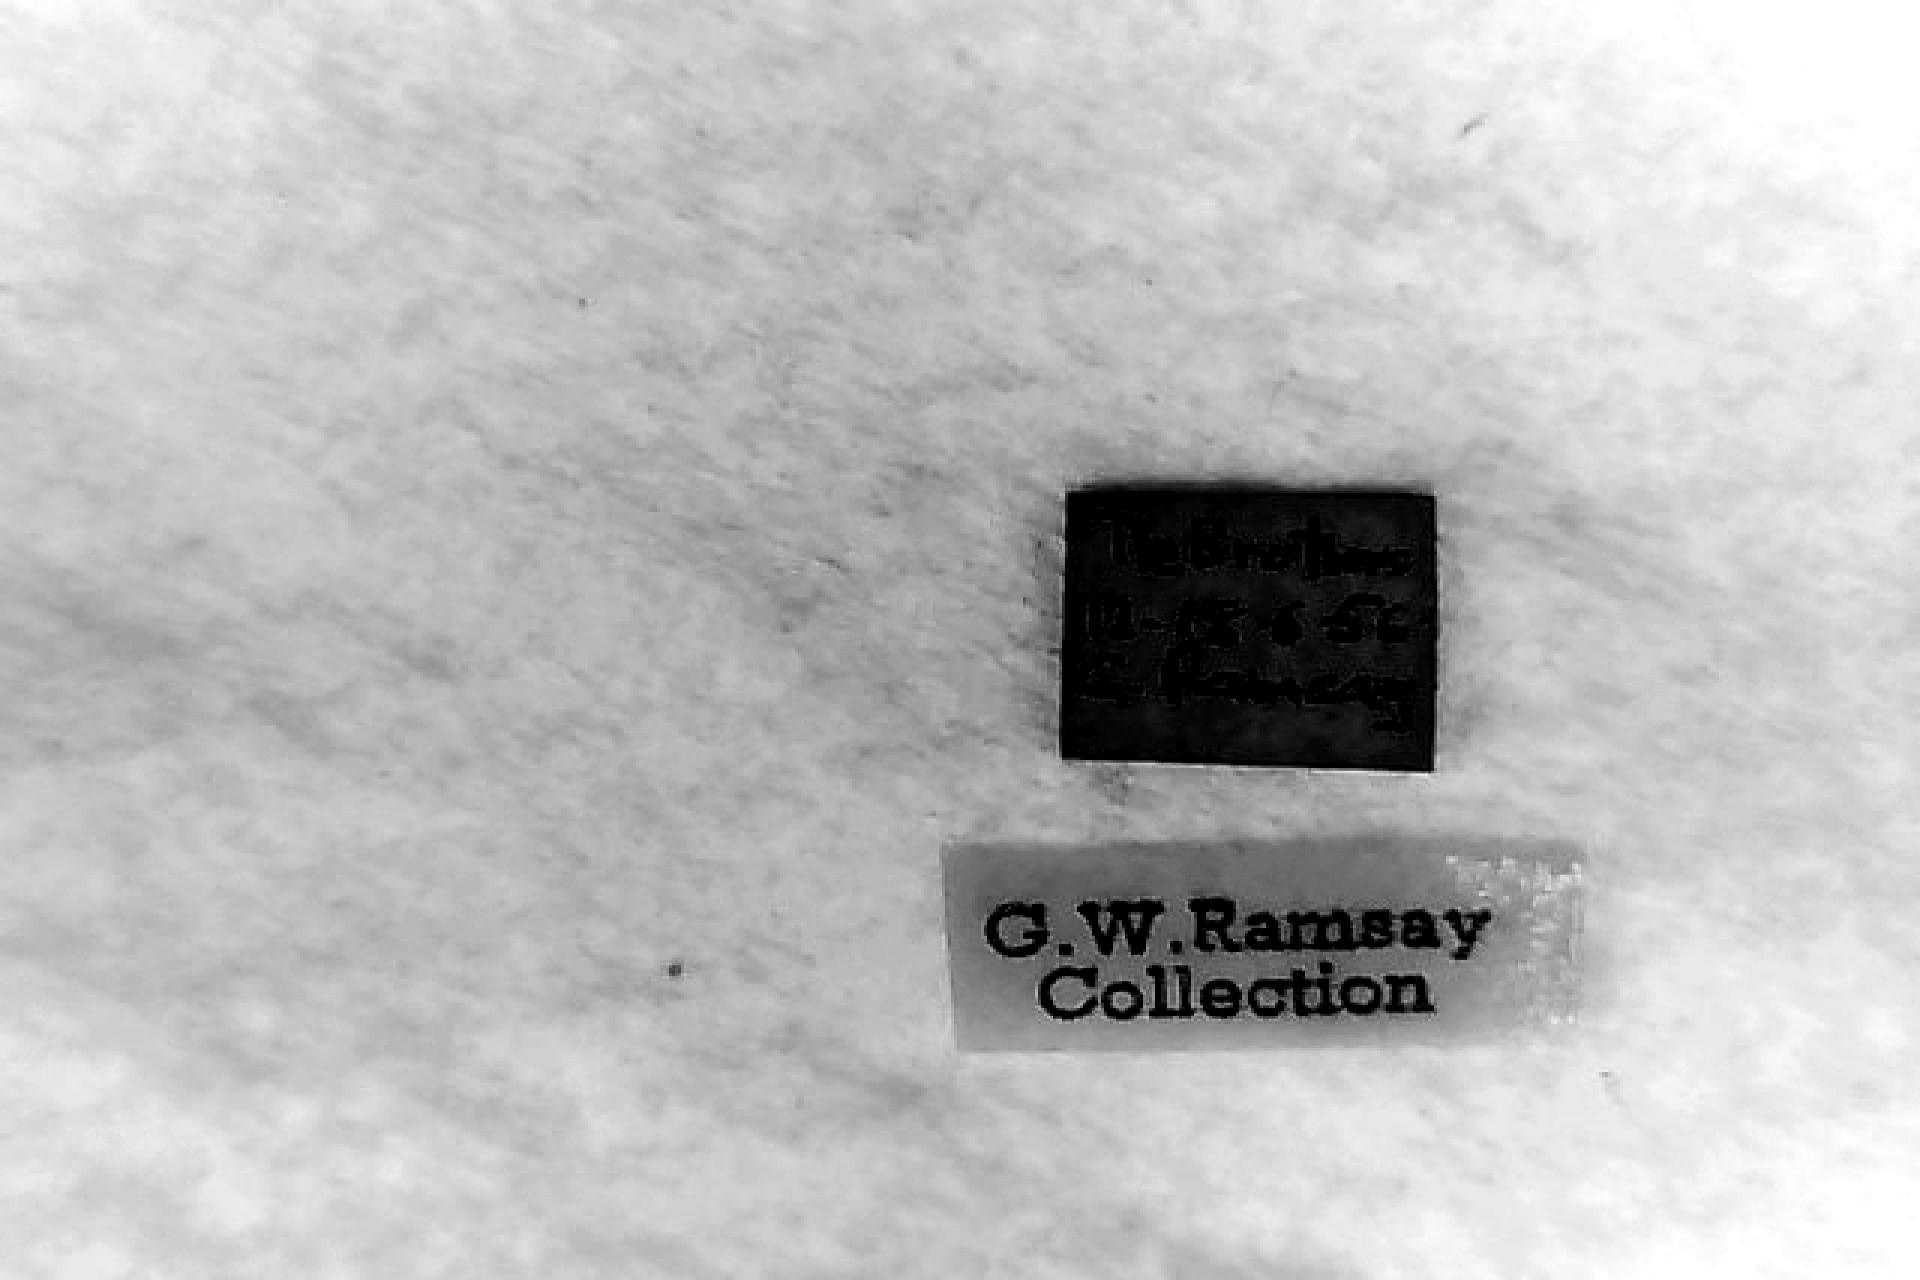hand_label: (1063, 493, 1436, 768)
typed_label: (945, 850, 1582, 1050)
